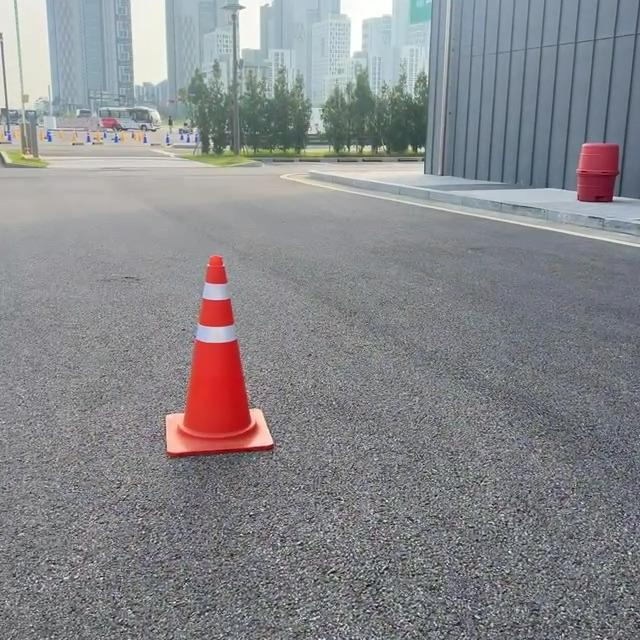fallen_object: (122, 233, 281, 436)
